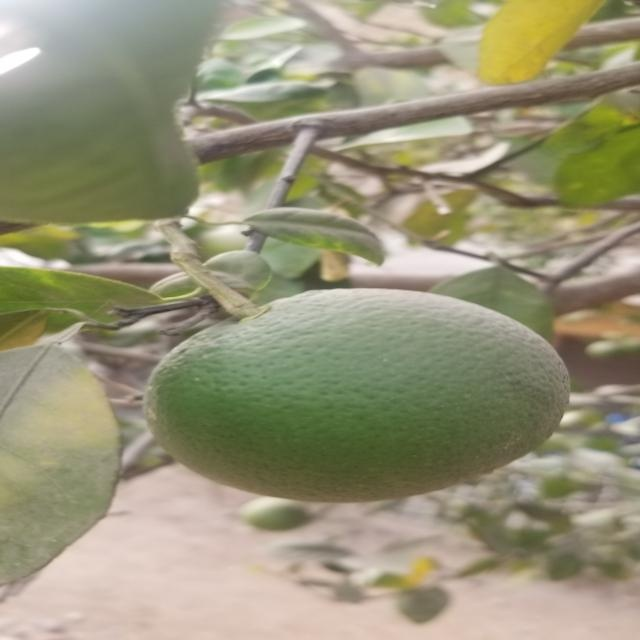agrume: (144, 291, 565, 503)
